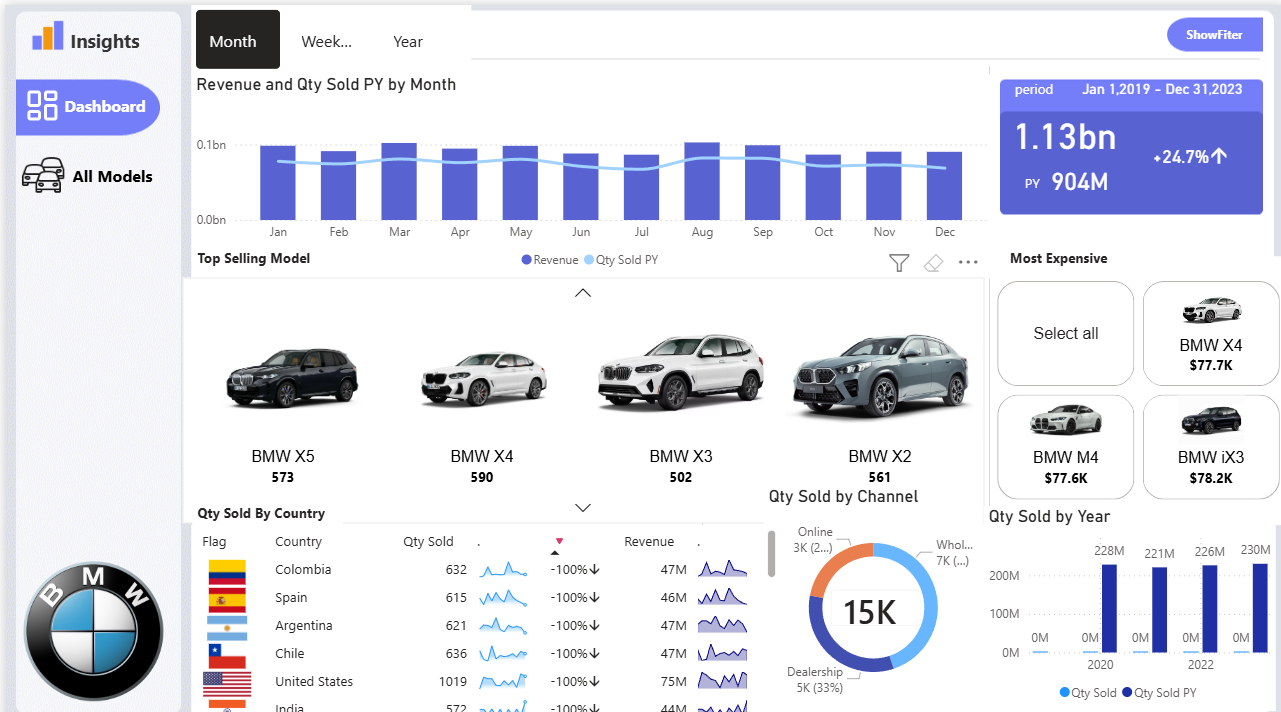

What the dashboard file says about the page in this screenshot:
{"tool":"powerbi","page":{"name":"Dashboard","canvas":[1280,720],"ordinal":0},"visuals":[{"type":"lineClusteredColumnComboChart","fields":{"Category":["Calender.Month","Calender.WeekDay","Calender.Year"],"Y":["All Measure.Revenue"],"Y2":["All Measure.Revenue PY"]},"box":[186.6,68.6,801.4,204.5],"z":0},{"type":"advancedSlicerVisual","fields":{"Values":["Periodslilcer.Periodslilcer"]},"box":[186.6,0,279.9,70],"z":1000},{"type":"cardVisual","fields":{"Data":["All Measure.Revenue"]},"box":[966,83.7,222.3,91.9],"z":2000},{"type":"cardVisual","fields":{"Data":["All Measure.Revenue PY"]},"box":[1004.5,130.4,155.1,91.9],"z":3000},{"type":"textbox","box":[1015.4,163.3,31.6,27.4],"z":4000},{"type":"cardVisual","fields":{"Data":["All Measure.Revenue variance % Arrow"]},"box":[1106,108.4,164.7,79.6],"z":5000},{"type":"cardVisual","fields":{"Data":["All Measure.Selected period"]},"box":[1036,46.7,244.3,74.1],"z":6000},{"type":"textbox","box":[1004.5,70,72.7,49.4],"z":7000},{"type":"textbox","box":[188,238.8,138.6,35.7],"z":8000},{"type":"advancedSlicerVisual","fields":{"Values":["DimModel.Model"]},"box":[177,273.1,801.4,245.6],"z":9000},{"type":"advancedSlicerVisual","fields":{"Values":["DimModel.Model"]},"box":[988,251.1,292.3,269],"z":10000},{"type":"textbox","box":[1000.4,238.3,153.6,32.7],"z":11000},{"type":"clusteredColumnChart","title":"Qty Sold  by Year","fields":{"Y":["All Measure.Qty Sold","All Measure.Qty Sold PY"],"Category":["Calender.Year"]},"box":[978.4,500.9,292.3,204.5],"z":12000},{"type":"donutChart","fields":{"Y":["All Measure.Qty Sold"],"Category":["DimChannel.Channel"]},"box":[758.8,481.6,219.6,223.7],"z":13000},{"type":"cardVisual","fields":{"Data":["All Measure.Qty Sold"]},"box":[808.2,568.1,124.9,71.4],"z":14000},{"type":"tableEx","fields":{"Values":["DimCountry.Countries with Flags URL (1).Flag","DimCountry.Country","All Measure.Qty Sold","All Measure.Qty Sold Sparkline  bright","All Measure.Qty Sold Variance % Arrow","All Measure.Revenue","All Measure.Revenue Sparkline"]},"box":[186.6,520.1,590.1,200.3],"z":15000},{"type":"textbox","box":[187.4,493.4,150.2,36.1],"z":16000},{"type":"image","box":[13.7,148.2,49.4,42.5],"z":17000},{"type":"shape","box":[64.5,148.2,85.1,42.5],"z":18000},{"type":"shape","box":[57.6,78.2,85.1,42.5],"z":19000},{"type":"image","box":[16.5,82.3,42.5,35.7],"z":20000},{"type":"actionButton","box":[35,137.8,145.7,62.1],"z":21000},{"type":"actionButton","box":[13.7,68.6,145.5,61.7],"z":22000},{"type":"actionButton","box":[1159.6,11.3,99.4,35],"z":24000},{"type":"image","box":[0,556.7,177.3,140],"z":25000},{"type":"actionButton","box":[39.5,4.5,119.7,62.1],"z":26000},{"type":"image","box":[22.6,11.3,40.6,35],"z":27000}]}

Visuals, with their boxes on the page's 1280x720 design canvas (x1, y1, x2, y2). These are canvas units, not pixel positions in the 1281x712 screenshot, which may show the page scaled, cropped or inside an application window:
lineClusteredColumnComboChart - Calender.Month x Calender.WeekDay: l=187, t=69, r=988, b=273
advancedSlicerVisual - Periodslilcer.Periodslilcer: l=187, t=0, r=466, b=70
cardVisual - All Measure.Revenue: l=966, t=84, r=1188, b=176
cardVisual - All Measure.Revenue PY: l=1004, t=130, r=1160, b=222
textbox: l=1015, t=163, r=1047, b=191
cardVisual - All Measure.Revenue variance % Arrow: l=1106, t=108, r=1271, b=188
cardVisual - All Measure.Selected period: l=1036, t=47, r=1280, b=121
textbox: l=1004, t=70, r=1077, b=119
textbox: l=188, t=239, r=327, b=274
advancedSlicerVisual - DimModel.Model: l=177, t=273, r=978, b=519
advancedSlicerVisual - DimModel.Model: l=988, t=251, r=1280, b=520
textbox: l=1000, t=238, r=1154, b=271
"Qty Sold  by Year" clusteredColumnChart: l=978, t=501, r=1271, b=705
donutChart - All Measure.Qty Sold x DimChannel.Channel: l=759, t=482, r=978, b=705
cardVisual - All Measure.Qty Sold: l=808, t=568, r=933, b=640
tableEx - DimCountry.Countries with Flags URL (1).Flag x DimCountry.Country: l=187, t=520, r=777, b=720
textbox: l=187, t=493, r=338, b=530
image: l=14, t=148, r=63, b=191
shape: l=64, t=148, r=150, b=191
shape: l=58, t=78, r=143, b=121
image: l=16, t=82, r=59, b=118
actionButton: l=35, t=138, r=181, b=200
actionButton: l=14, t=69, r=159, b=130
actionButton: l=1160, t=11, r=1259, b=46
image: l=0, t=557, r=177, b=697
actionButton: l=40, t=4, r=159, b=67
image: l=23, t=11, r=63, b=46
